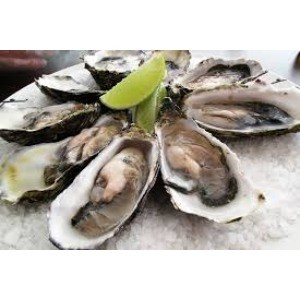oyster_brain food: (23, 105, 235, 235)
